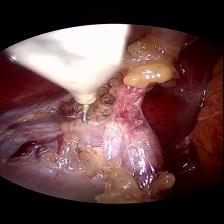Hook: (14, 25, 138, 120)
